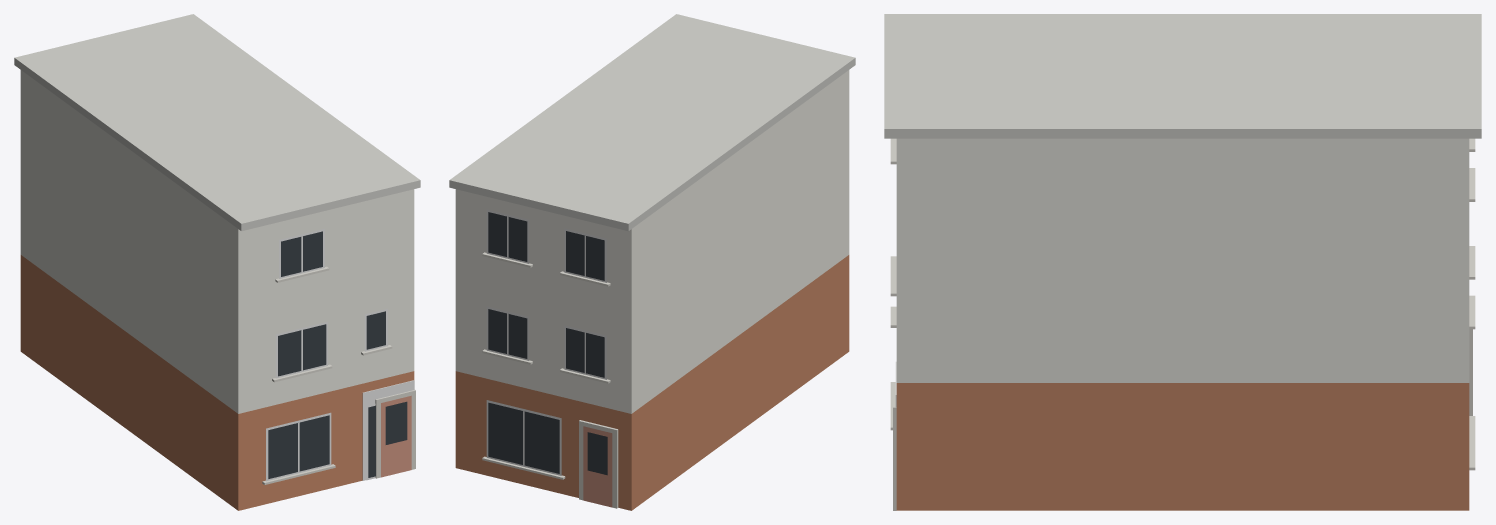
File: nw-os-white__white__3__flat__long__solid__mirror.glb
3 views of the same model, side by side, from view 1: azimuth 30°, elevation 25°; view 2: azimuth 150°, elevation 25°; view 3: azimuth 270°, elevation 25° (orthographic). The views are drawn at different scales.
Visible parts, largest first — view 1: nw-os-white__white__3__flat__long__solid__mirror; view 2: nw-os-white__white__3__flat__long__solid__mirror; view 3: nw-os-white__white__3__flat__long__solid__mirror.
Part boxes in pixels (left/top/right/bottom): nw-os-white__white__3__flat__long__solid__mirror: left=14, top=14, right=420, bottom=510; nw-os-white__white__3__flat__long__solid__mirror: left=449, top=14, right=855, bottom=510; nw-os-white__white__3__flat__long__solid__mirror: left=884, top=14, right=1481, bottom=510.
Size of the model in its own units: 5.54 by 8.6 by 12.17.
